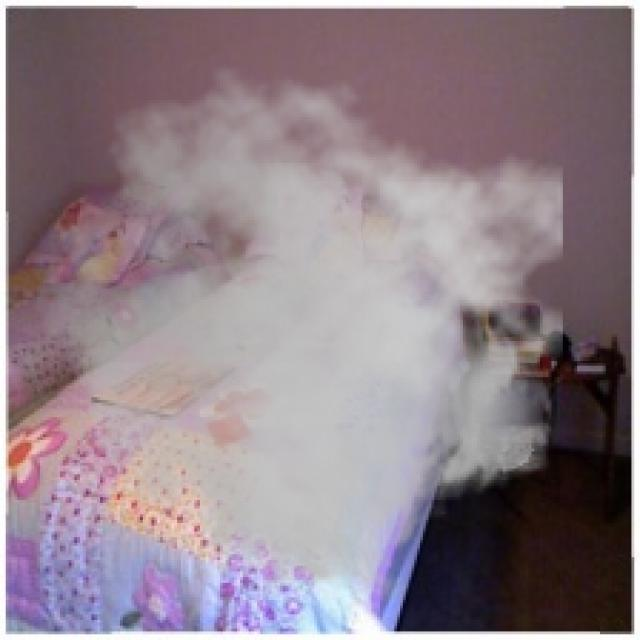Smoke: (31, 63, 563, 606)
